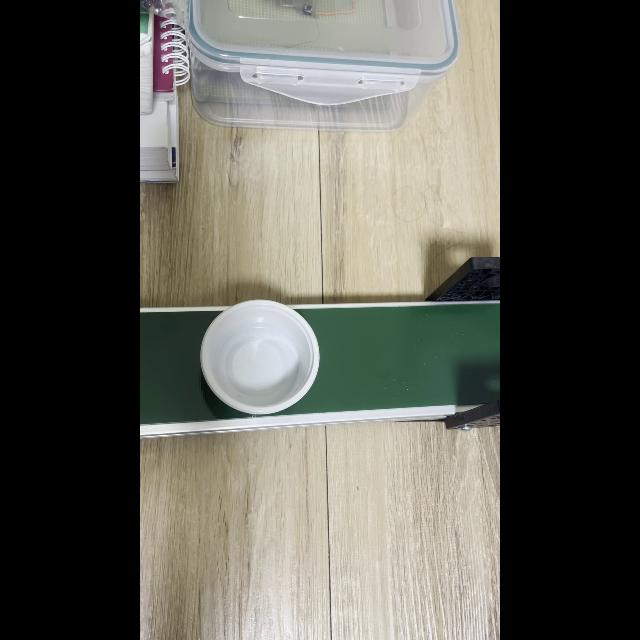clean: (200, 301, 318, 414)
